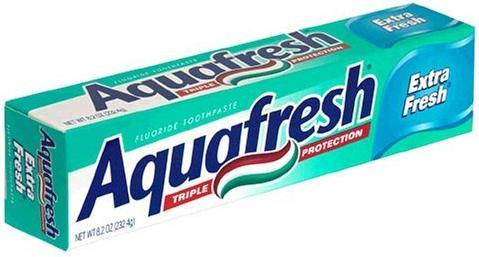toothpaste: (0, 1, 475, 255)
